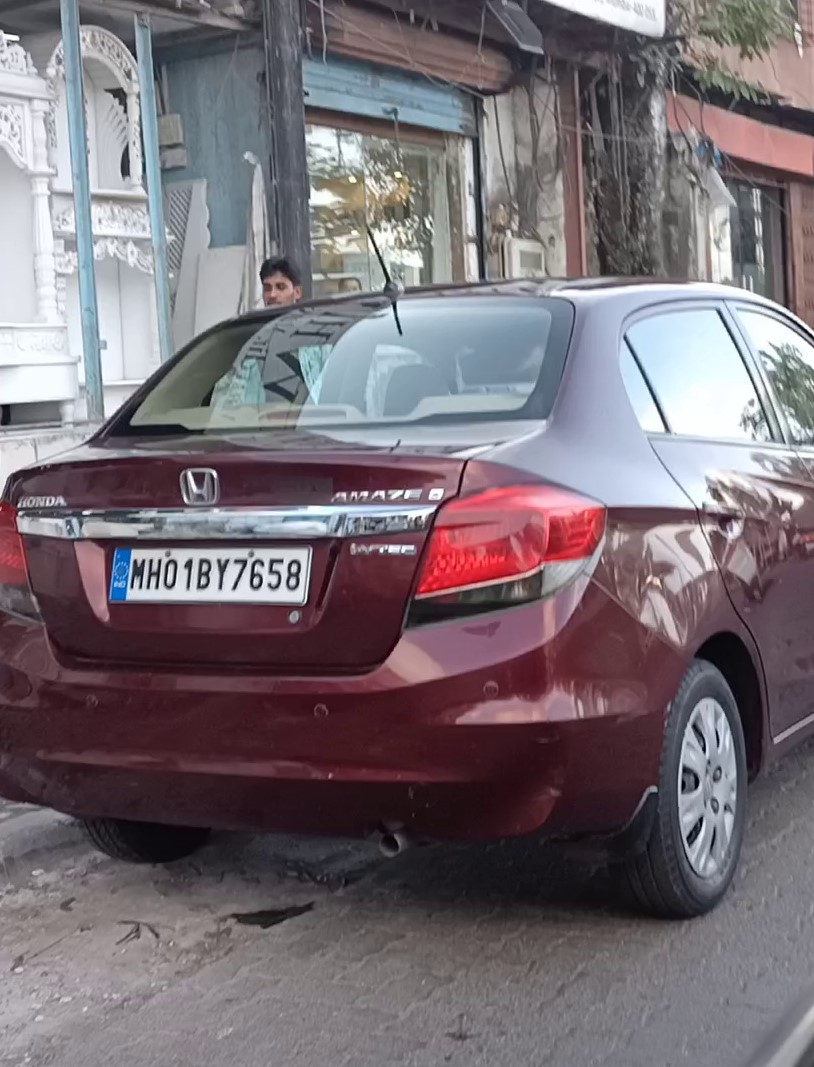MH01BY7658: (109, 543, 312, 603)
